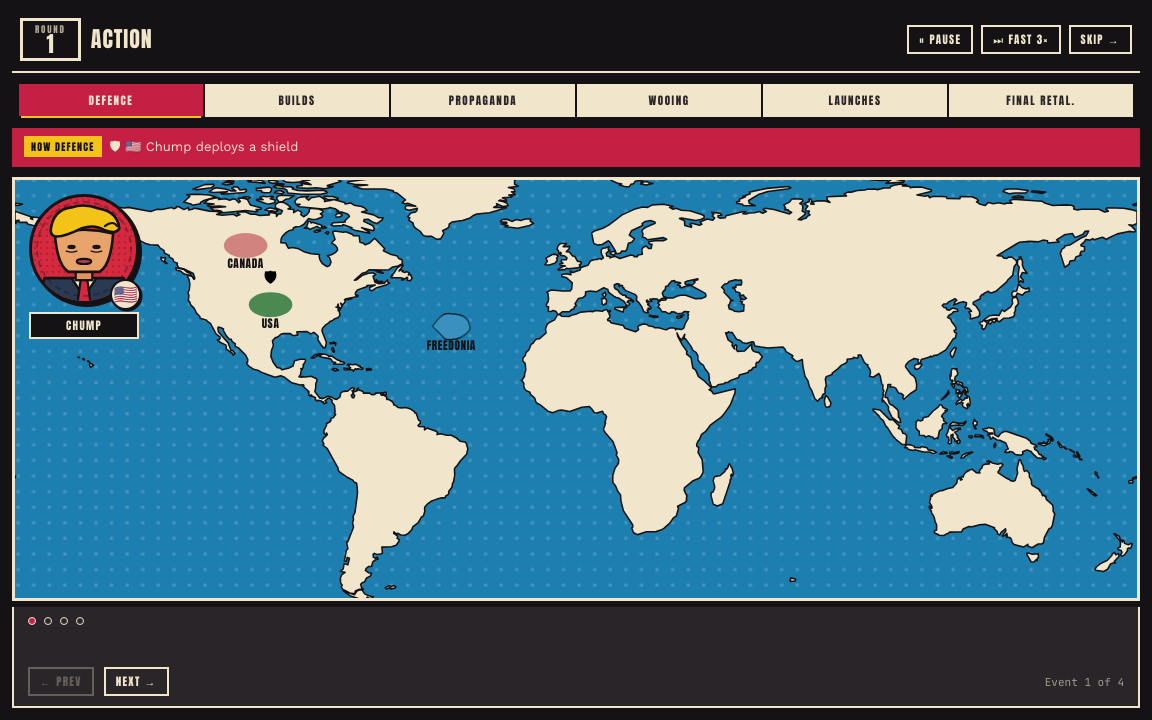
it: <Action> playback › halts while paused and resumes on RESUME
Click the button "⏸ PAUSE".
click(940, 40)  # box left=907, top=25, right=973, bottom=54
Wait 20000 ms
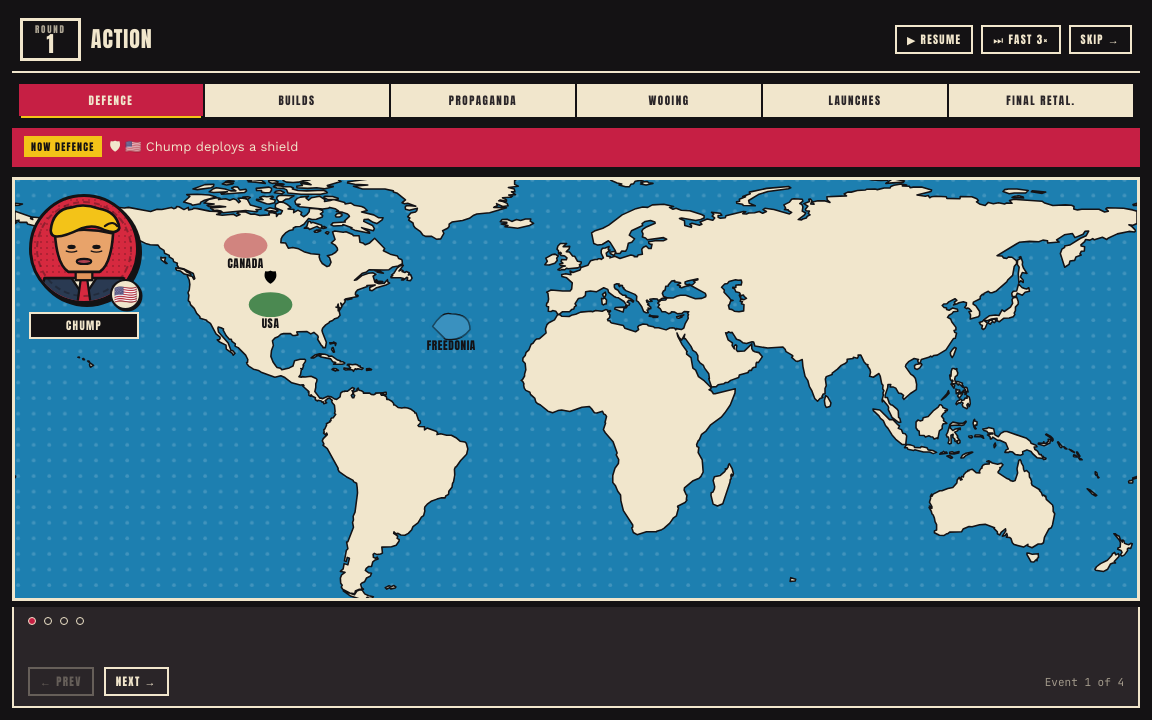
Check: the text "deploys a shield" is shown, box left=110, top=139, right=298, bottom=154
Click the button "▶ RESUME".
click(934, 40)  # box left=895, top=25, right=973, bottom=54
Wait 2700 ms
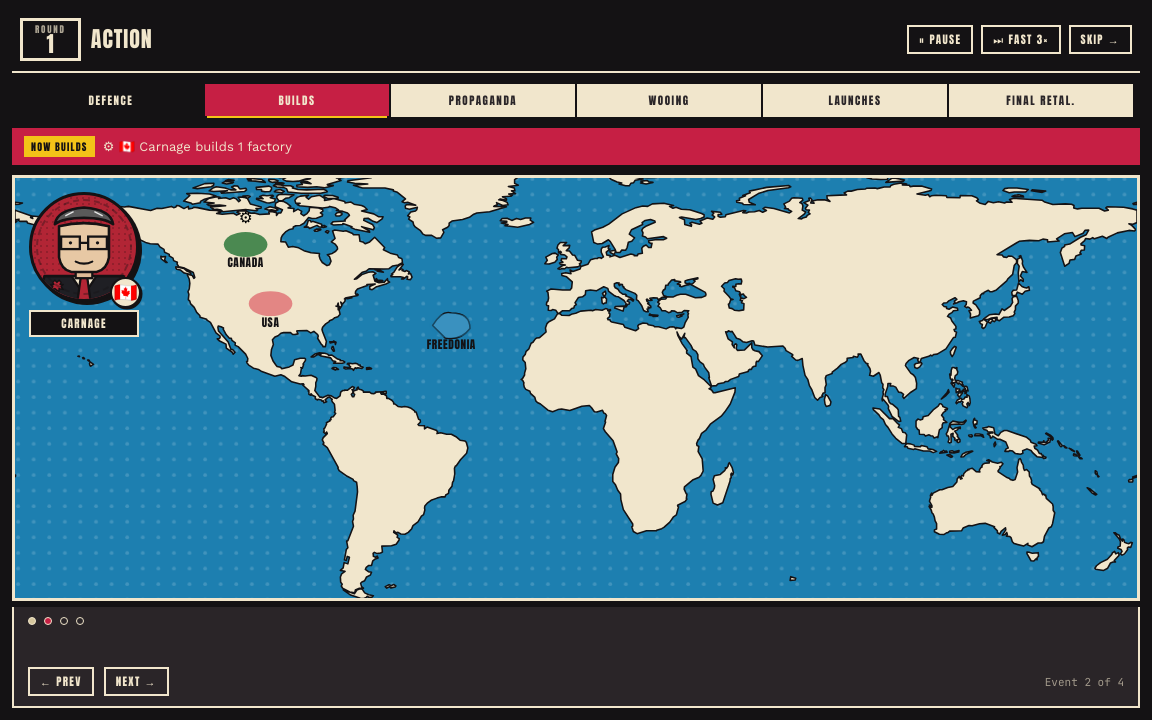
Check: the text "builds 1 factory" is shown, box left=103, top=139, right=292, bottom=154
